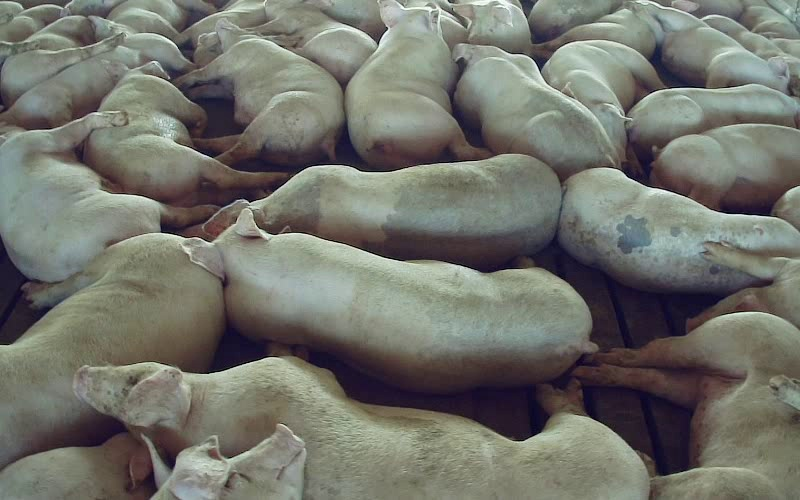pig: (74, 357, 646, 499), (183, 209, 595, 392), (0, 233, 224, 468), (186, 154, 560, 268), (573, 313, 799, 499), (0, 112, 214, 280), (558, 168, 799, 294), (84, 61, 288, 205), (176, 19, 344, 165), (345, 0, 490, 169), (453, 44, 619, 179), (0, 33, 194, 128), (542, 40, 664, 160), (629, 0, 788, 92), (627, 84, 799, 162), (650, 124, 799, 213), (0, 16, 122, 106), (250, 0, 376, 84), (91, 0, 215, 40)
